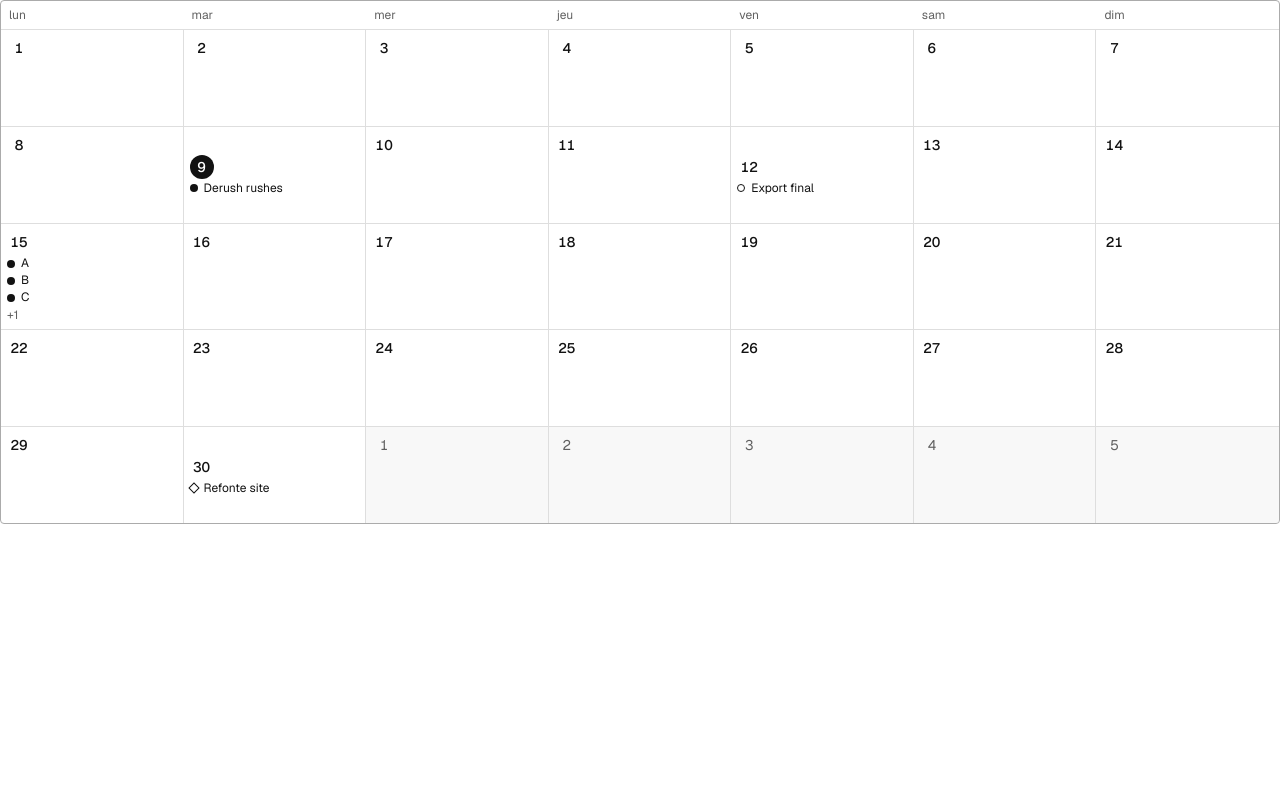
Test: MonthGrid › un jour avec items est activable et ouvre le détail du jour
Click the button "9 Derush rushes". click: click(274, 175)
box: [184, 127, 365, 223]
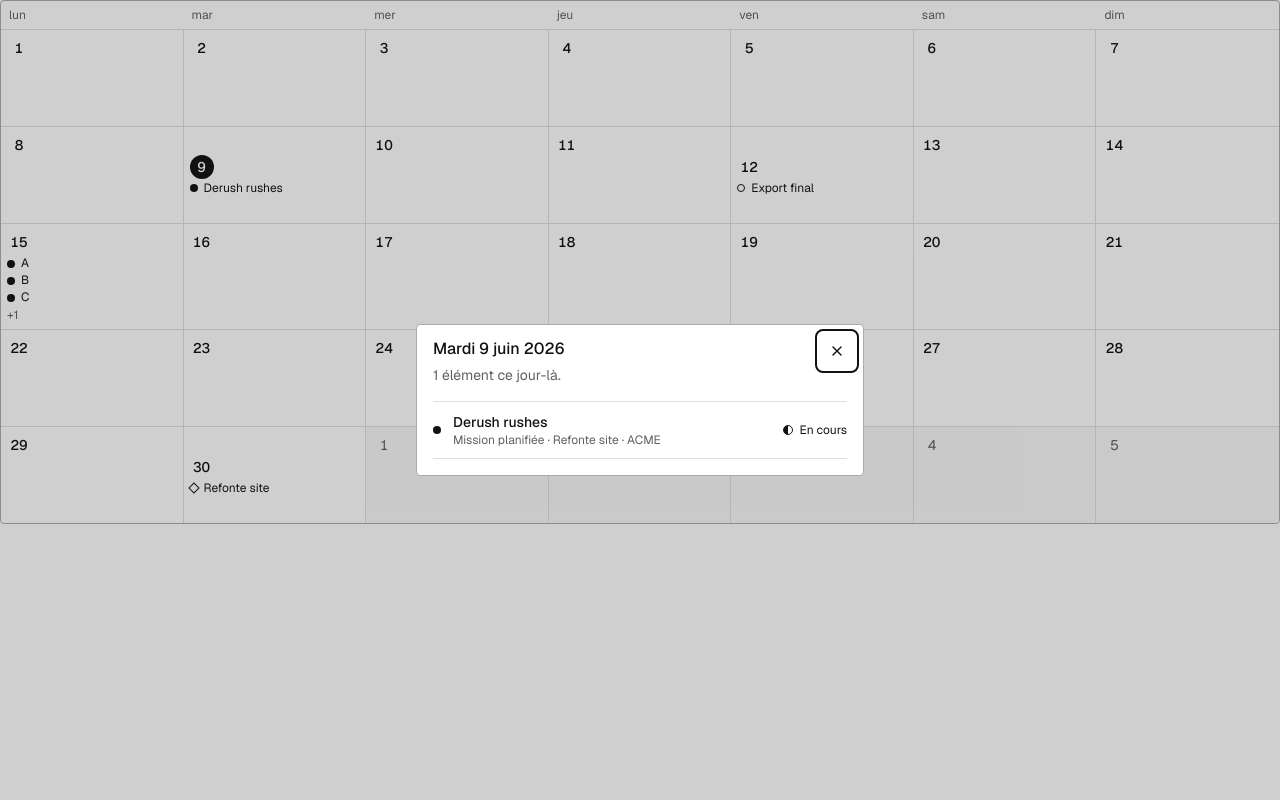
Check: the text "Derush rushes" is shown, box [453, 413, 548, 431]
Check: the text "Mission planifiée · Refonte site · ACME" is shown, box [453, 432, 661, 448]
